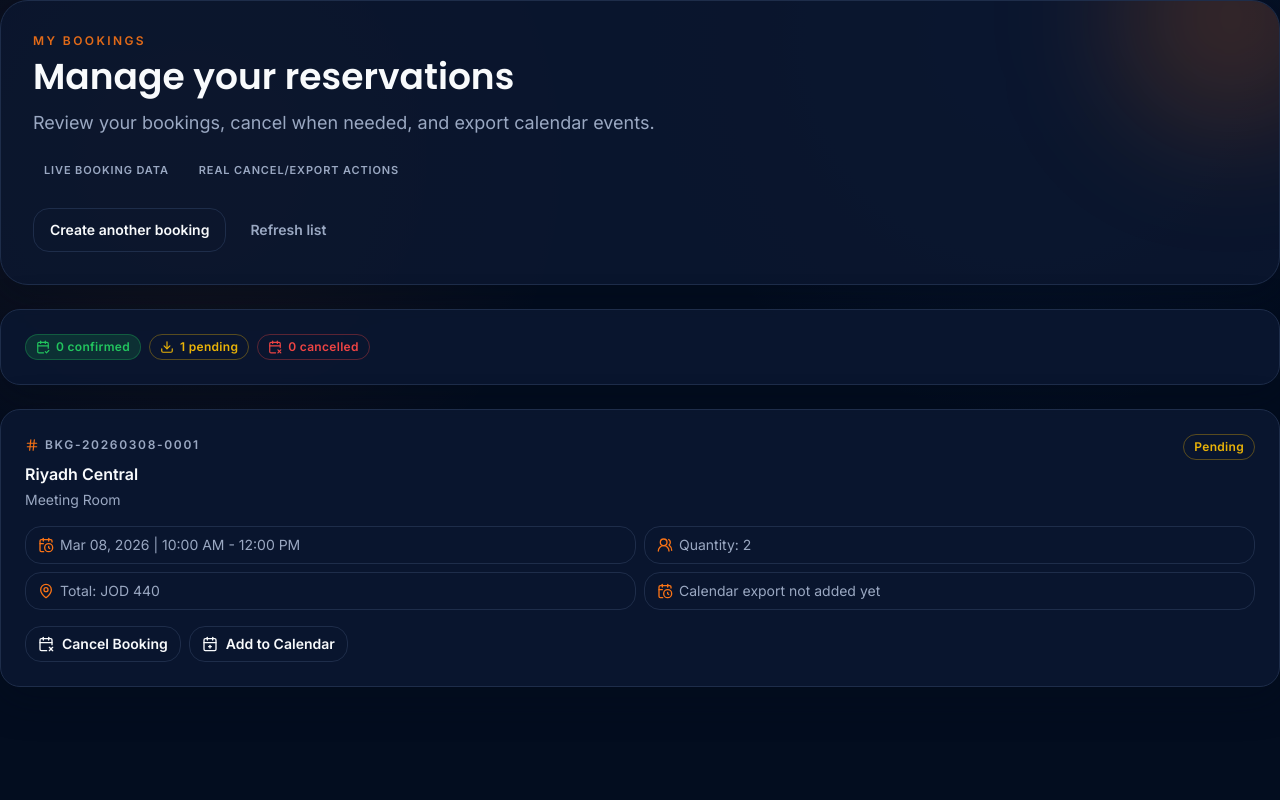
Scenario: CustomerMyBookingsPage › exports booking calendar via ICS endpoint
Click the button "Add to Calendar".
click(268, 644)  # box [189, 626, 348, 662]
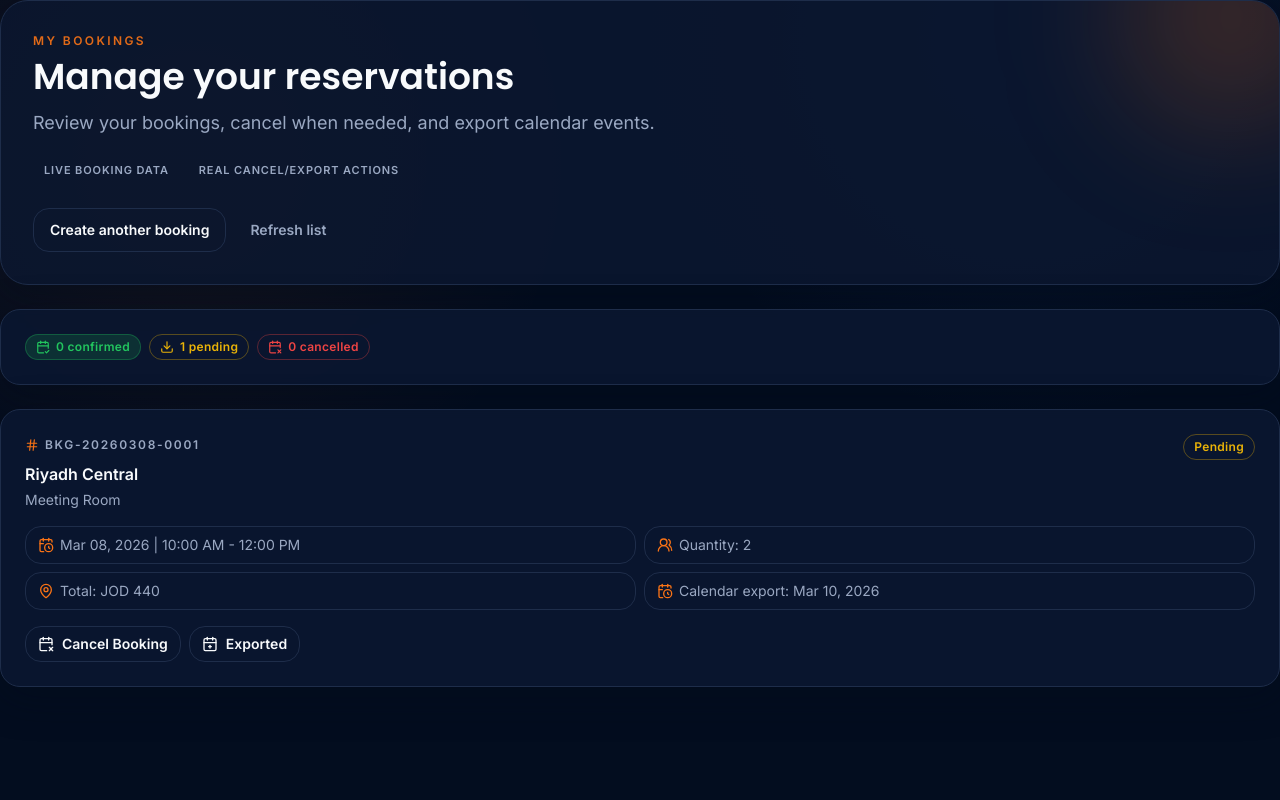
Now the button "Exported" is shown, box [189, 626, 300, 662]
